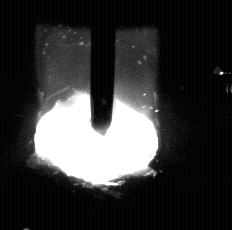arame: (92, 0, 115, 135)
poca: (34, 0, 160, 230)
